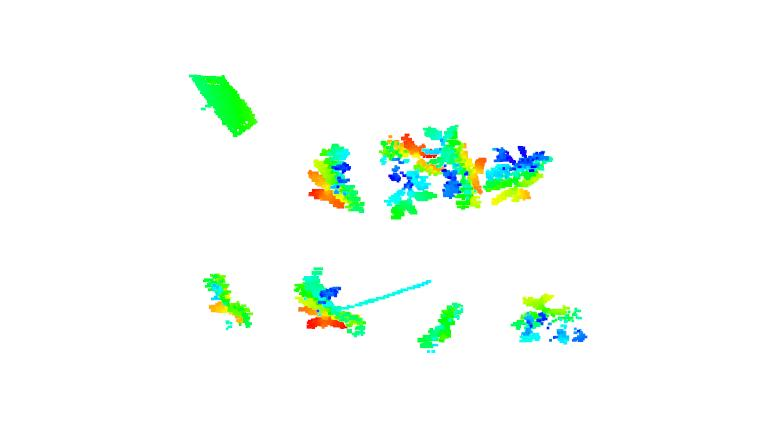chickpea: (416, 121, 488, 212), (292, 263, 367, 341), (302, 137, 368, 217), (375, 126, 430, 218), (484, 138, 556, 204), (508, 293, 586, 344), (201, 271, 256, 338), (411, 300, 468, 356)
